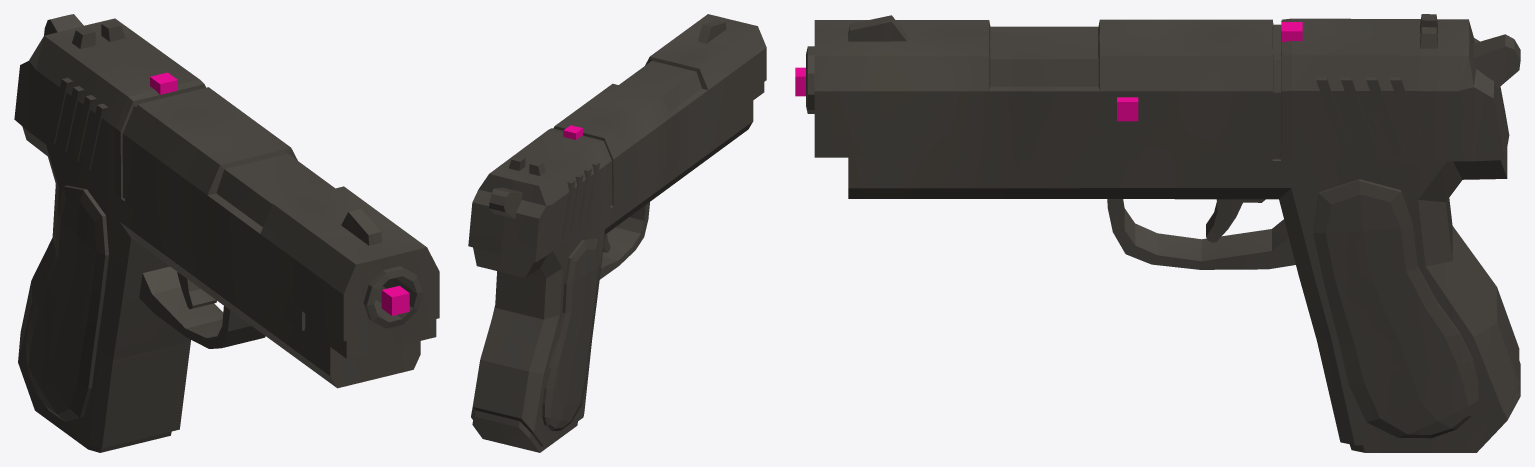
The picture shows the model from 3 angles, left to right: view 1: azimuth 30°, elevation 25°; view 2: azimuth 150°, elevation 25°; view 3: azimuth 270°, elevation 25°; orthographic projection. The views are drawn at different scales.
Visible parts, largest first — view 1: p9, DBG_Muzzle, DBG_Sight; view 2: p9; view 3: p9.
Part boxes in pixels (x1,y1,x2,y2): p9: (14,14,439,452); DBG_Muzzle: (381,285,409,315); DBG_Sight: (150,72,177,94); p9: (468,14,766,452); p9: (806,14,1520,452).
Size of the model in its own units: 0.0408 by 0.1405 by 0.2233.
2 materials, 1 textured.
